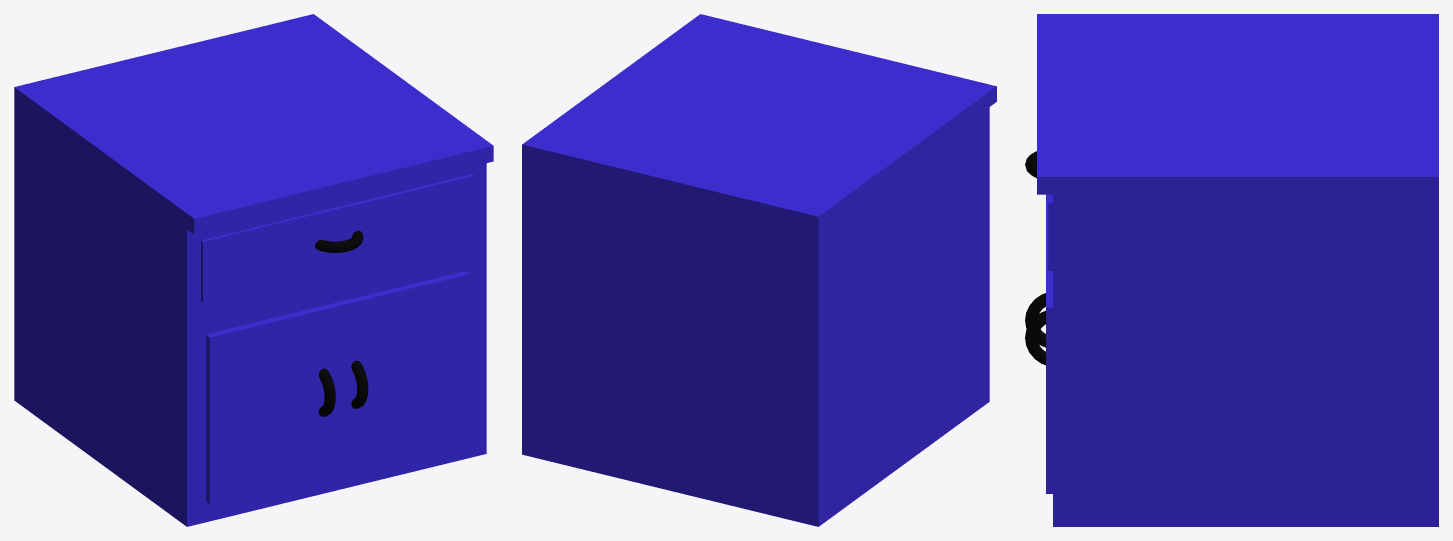
File: Cabinet.fbx
The picture shows the model from 3 angles, left to right: view 1: azimuth 30°, elevation 25°; view 2: azimuth 150°, elevation 25°; view 3: azimuth 270°, elevation 25°; orthographic projection. The views are drawn at different scales.
Visible parts, largest first — view 1: Cabinet, CabinetDoorRight, CabinetDoorLeft; view 2: Cabinet; view 3: Cabinet, CabinetDoorLeft, CabinetDoorRight.
Part boxes in pixels (x1,y1,x2,y2): Cabinet: [14, 14, 493, 526]; CabinetDoorRight: [206, 303, 339, 504]; CabinetDoorLeft: [336, 271, 469, 472]; Cabinet: [522, 14, 996, 526]; Cabinet: [1025, 14, 1438, 526]; CabinetDoorLeft: [1025, 236, 1052, 493]; CabinetDoorRight: [1025, 194, 1048, 347].
Size of the model in its own units: 50 by 50 by 53.62.
